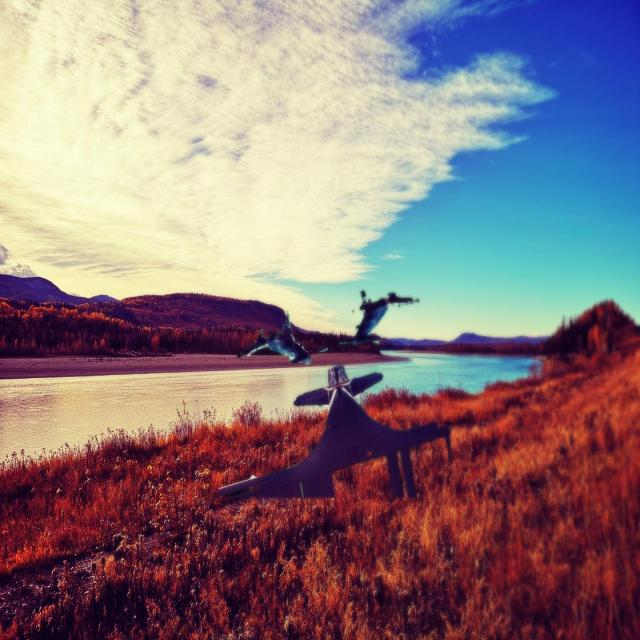airplane: (216, 363, 452, 502), (236, 309, 328, 366), (338, 289, 420, 347)
